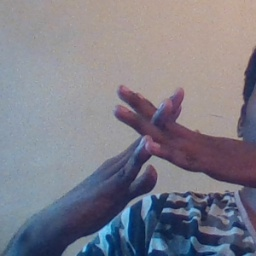W: (95, 74, 200, 201)
